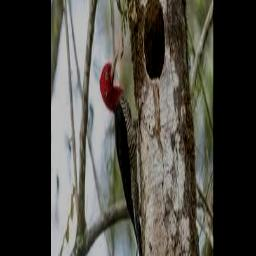Woodpecker: (100, 44, 144, 256)
